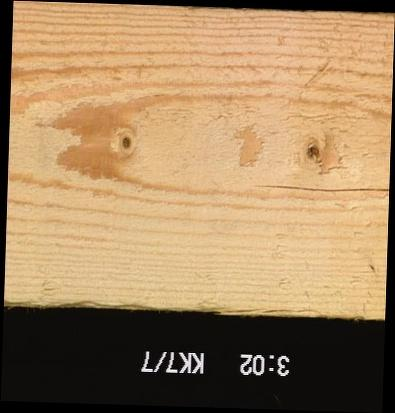small_knot: (120, 134, 132, 150)
sound_knot: (305, 135, 323, 165)
split: (252, 184, 388, 194)
